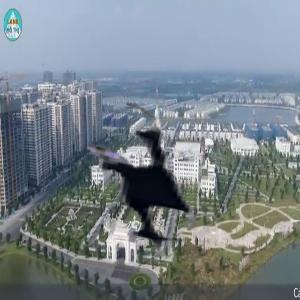drone: (50, 97, 234, 281)
